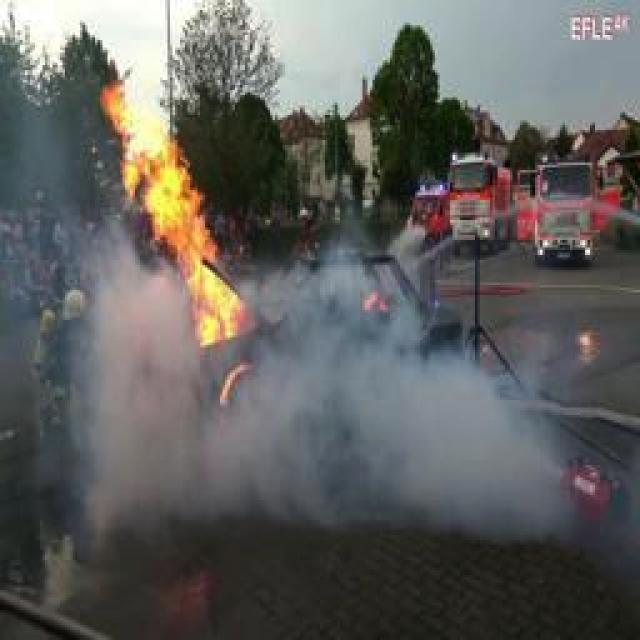fire: (103, 71, 268, 411)
smoke: (276, 287, 564, 547)
